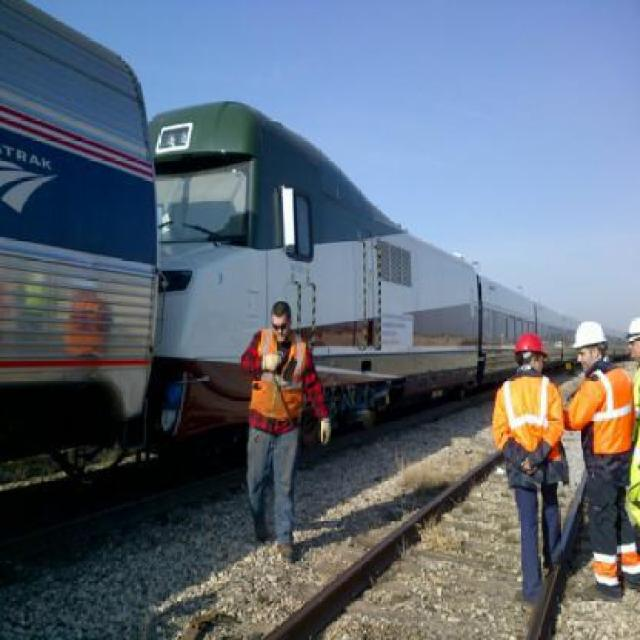Person: (486, 332, 574, 602), (560, 318, 637, 602), (240, 271, 308, 552), (620, 314, 638, 554)
